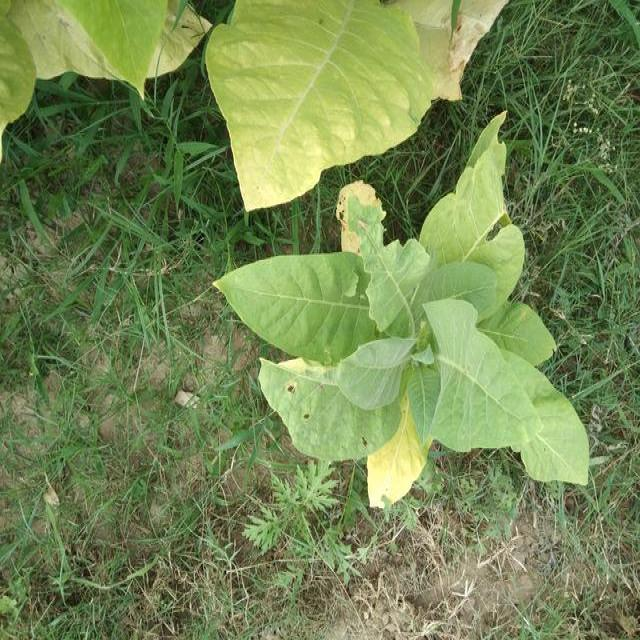crop: (218, 146, 594, 502)
